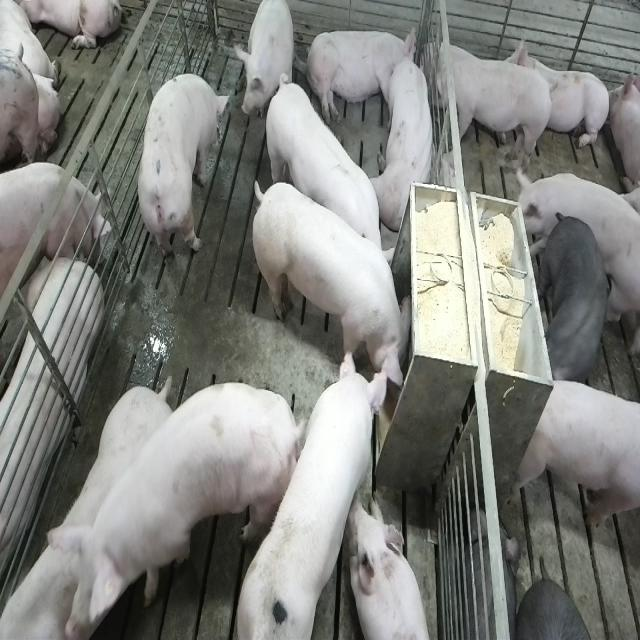Feeding: (230, 353, 389, 640), (255, 174, 420, 400)
Lateral_lying: (0, 246, 102, 623), (304, 25, 418, 129)
Sitting: (237, 1, 299, 131)
Standing: (2, 385, 184, 640), (138, 379, 302, 630), (261, 72, 395, 286), (512, 376, 639, 538), (136, 70, 230, 275), (424, 42, 555, 177), (0, 163, 109, 301), (534, 210, 612, 385)
Sternal_lying: (510, 30, 610, 154), (352, 493, 434, 640), (374, 51, 438, 232)
